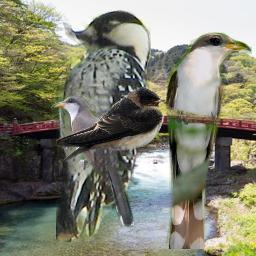Cuckoo: (164, 31, 252, 249), (51, 94, 137, 230)
Swallow: (56, 87, 166, 162)
Woodpecker: (56, 9, 151, 242)
